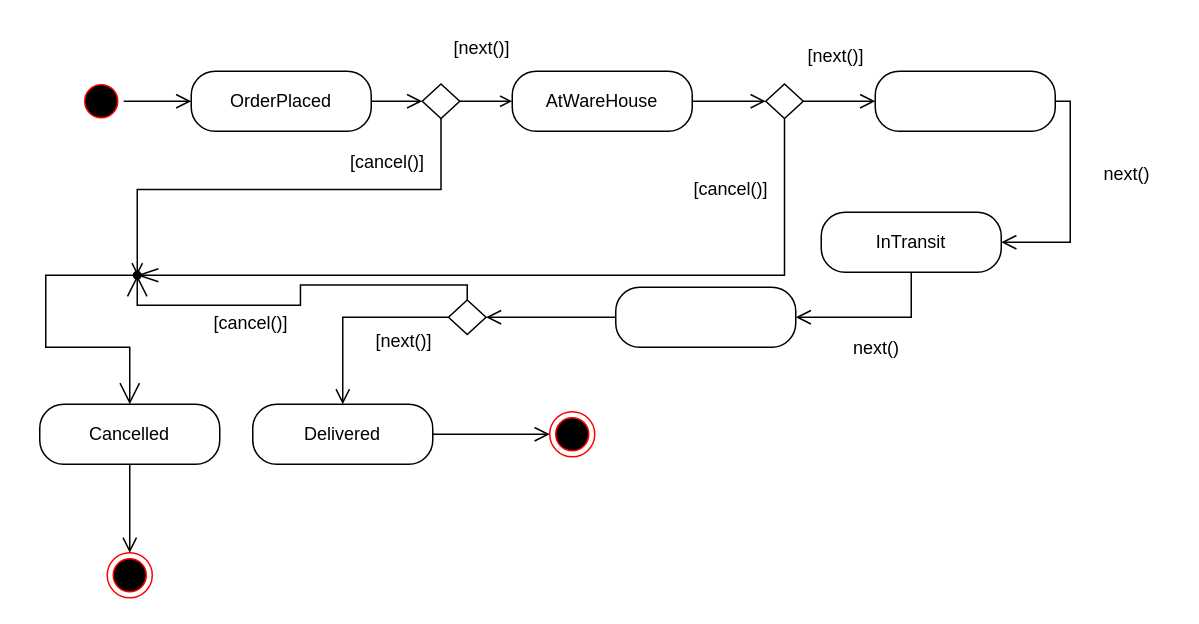
This 1199x624 diagram has some shape labels left out. Each missing label, with the box of its shape:
AtPickupPoint: (614, 286, 796, 347)
WithCourier: (874, 70, 1055, 131)
